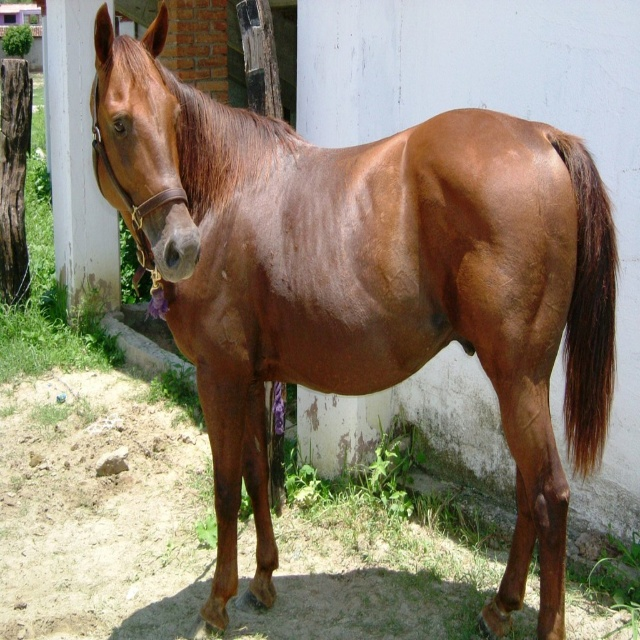Horse: (89, 0, 618, 639)
